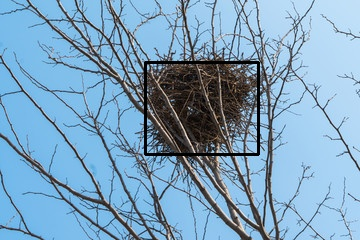bird-nest: (137, 56, 255, 157)
